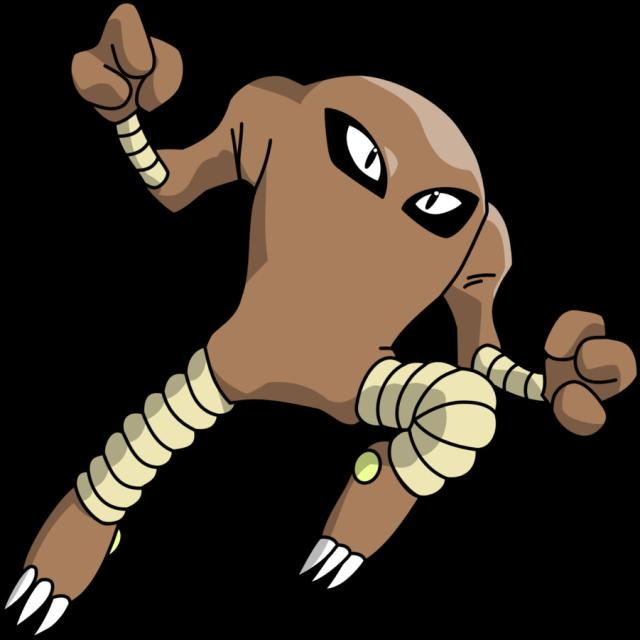Hitmonlee: (67, 69, 543, 541)
